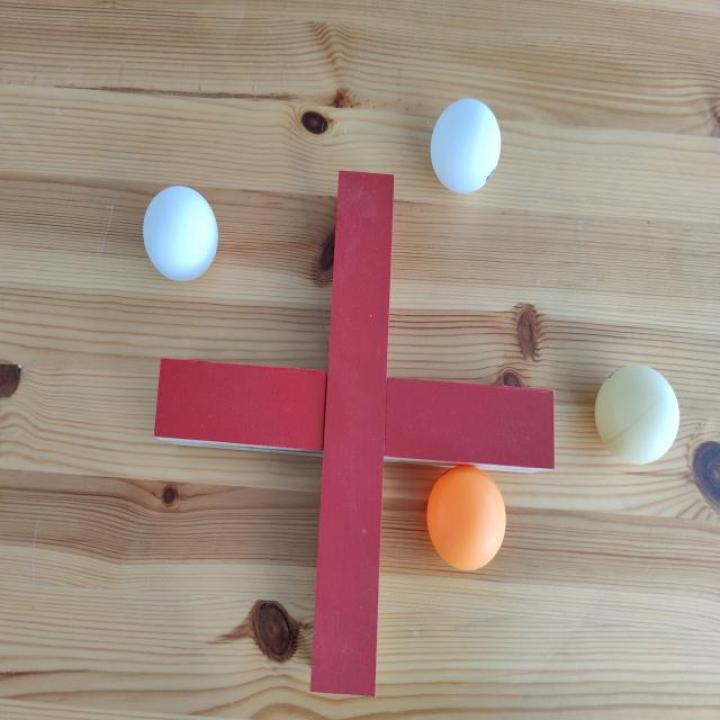orange: (423, 465, 508, 575)
white: (593, 364, 681, 468), (142, 186, 220, 285), (429, 99, 503, 197)
